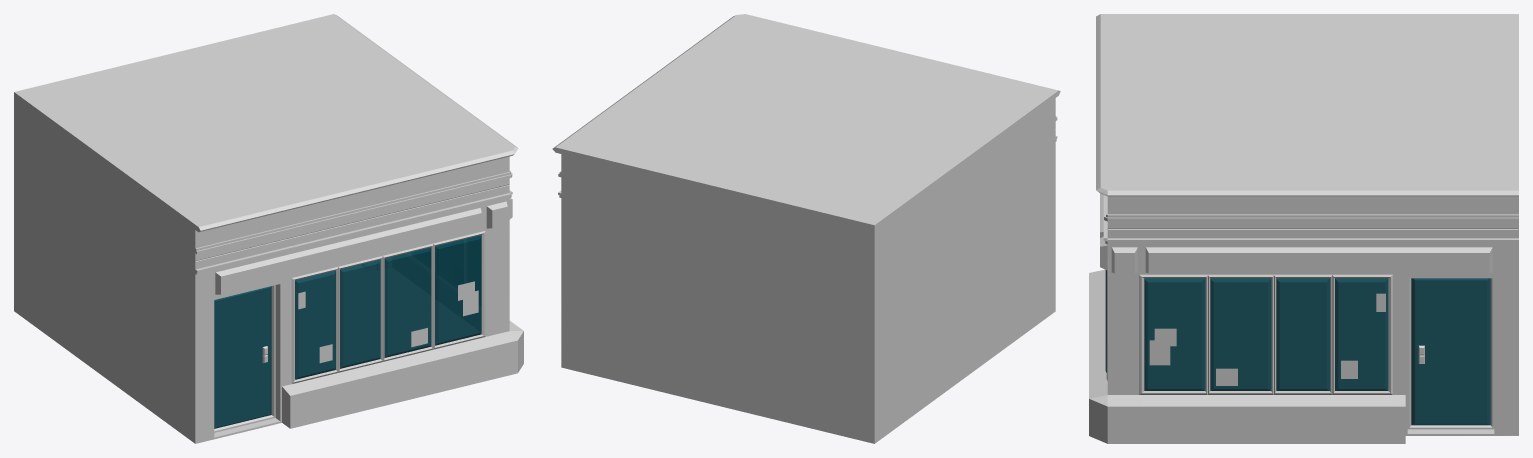
The model's file is building_shop_corner_01.fbx.
3 views of the same model, side by side, from view 1: azimuth 30°, elevation 25°; view 2: azimuth 150°, elevation 25°; view 3: azimuth 270°, elevation 25° (orthographic). The views are drawn at different scales.
Parts seen in each view (by area): view 1: building_shop_corner_01, building_shop_corner_01_glass; view 2: building_shop_corner_01; view 3: building_shop_corner_01, building_shop_corner_01_glass.
Part boxes in pixels (bbox=[...]): building_shop_corner_01: bbox=[14, 14, 523, 443]; building_shop_corner_01_glass: bbox=[214, 235, 481, 428]; building_shop_corner_01: bbox=[552, 14, 1060, 443]; building_shop_corner_01: bbox=[1089, 14, 1518, 443]; building_shop_corner_01_glass: bbox=[1105, 270, 1490, 425].
Size of the model in its own units: 627 by 400 by 627.
